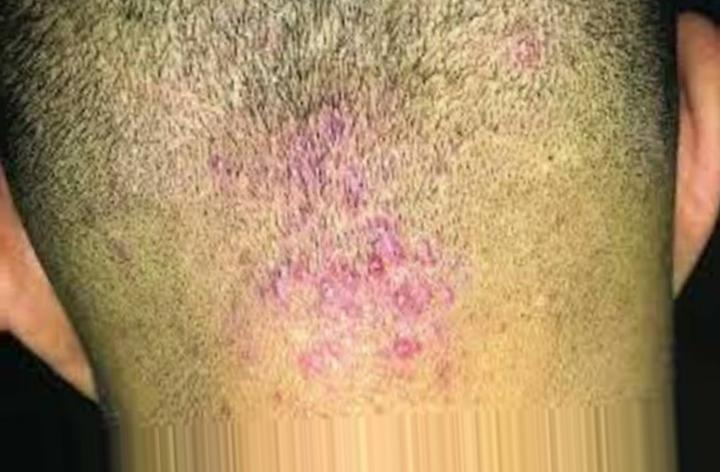Folliculitis: (192, 93, 468, 384)
